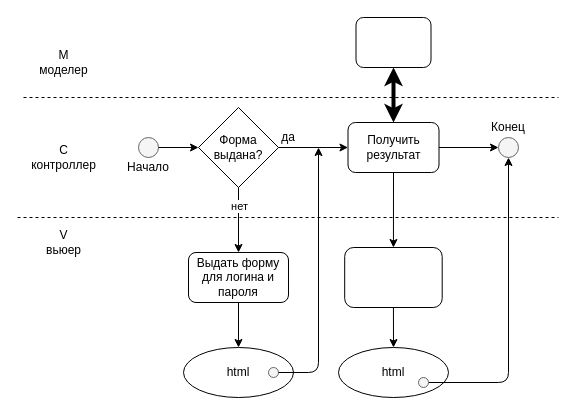
This 577x415 diagram has some shape labels left out. The centre of each missing label's shape, as x and y in pixels:
"SQLMaster" goes at point 393,42.
"Выдать результаты" goes at point 393,277.
